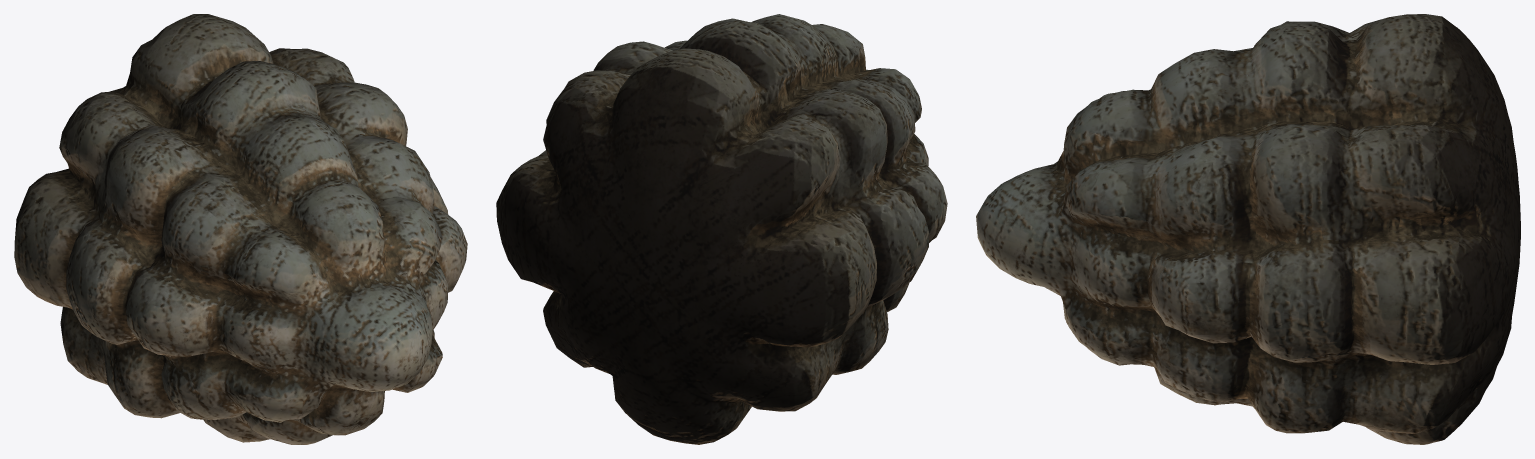
The model's file is folkart.gltf.
The picture shows the model from 3 angles, left to right: view 1: azimuth 30°, elevation 25°; view 2: azimuth 150°, elevation 25°; view 3: azimuth 270°, elevation 25°; orthographic projection. The views are drawn at different scales.
Parts seen in each view (by area): view 1: folkart_low.001; view 2: folkart_low.001; view 3: folkart_low.001.
Boxes of the visible parts, bbox=[...] form: folkart_low.001: bbox=[14, 14, 467, 444]; folkart_low.001: bbox=[496, 14, 947, 444]; folkart_low.001: bbox=[976, 14, 1520, 444].
Size of the model in its own units: 0.7212 by 0.7403 by 0.8796.
1 material, 1 textured.
